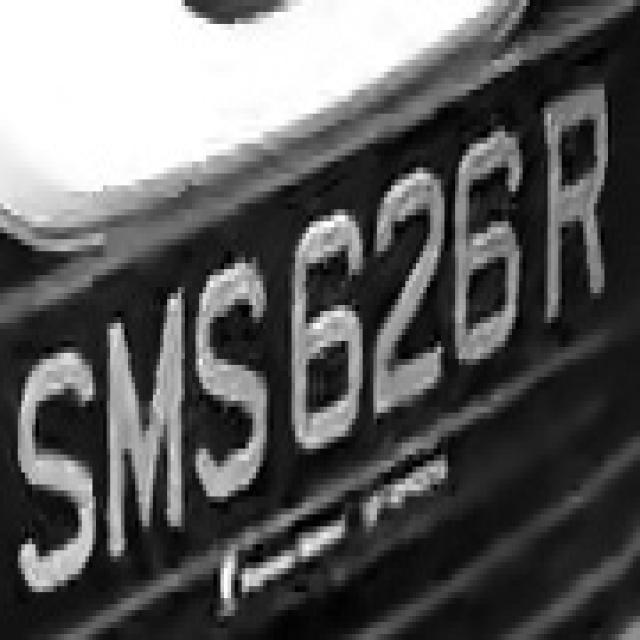2: (363, 168, 448, 430)
6: (444, 126, 534, 377), (292, 204, 374, 466)
M: (100, 287, 192, 574)
R: (541, 84, 615, 329)
S: (14, 341, 100, 610), (192, 258, 270, 520)
